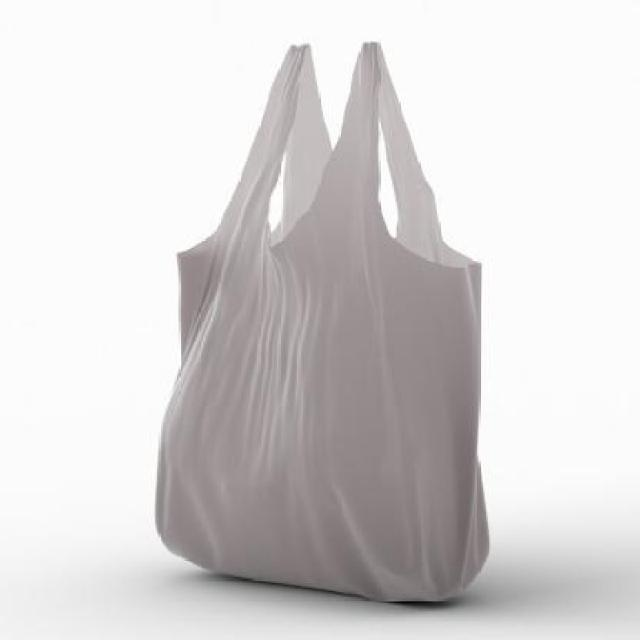plastic bag: (152, 46, 501, 610)
